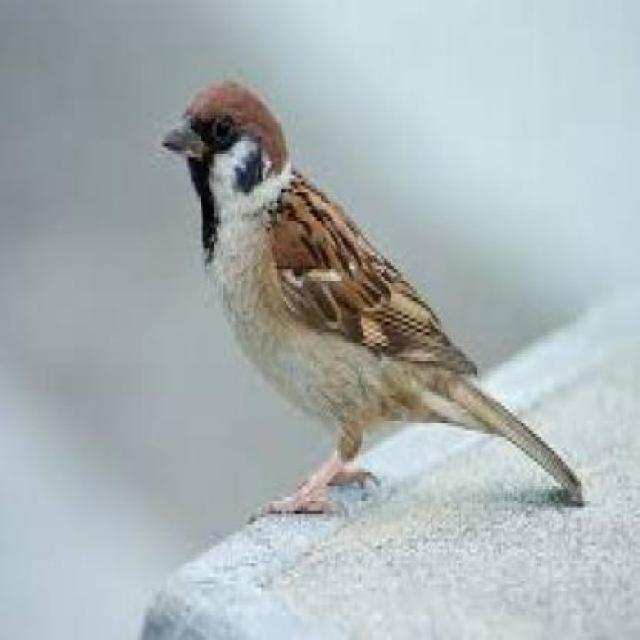sparrow: (165, 79, 460, 501)
